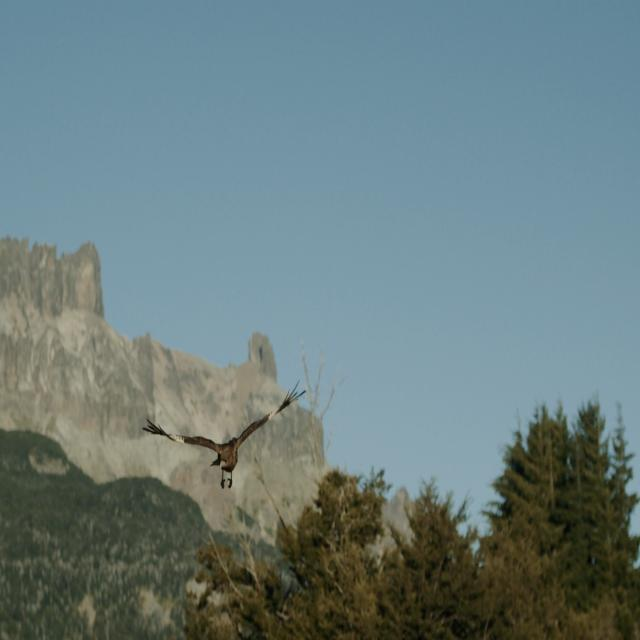bird: (134, 372, 312, 495)
